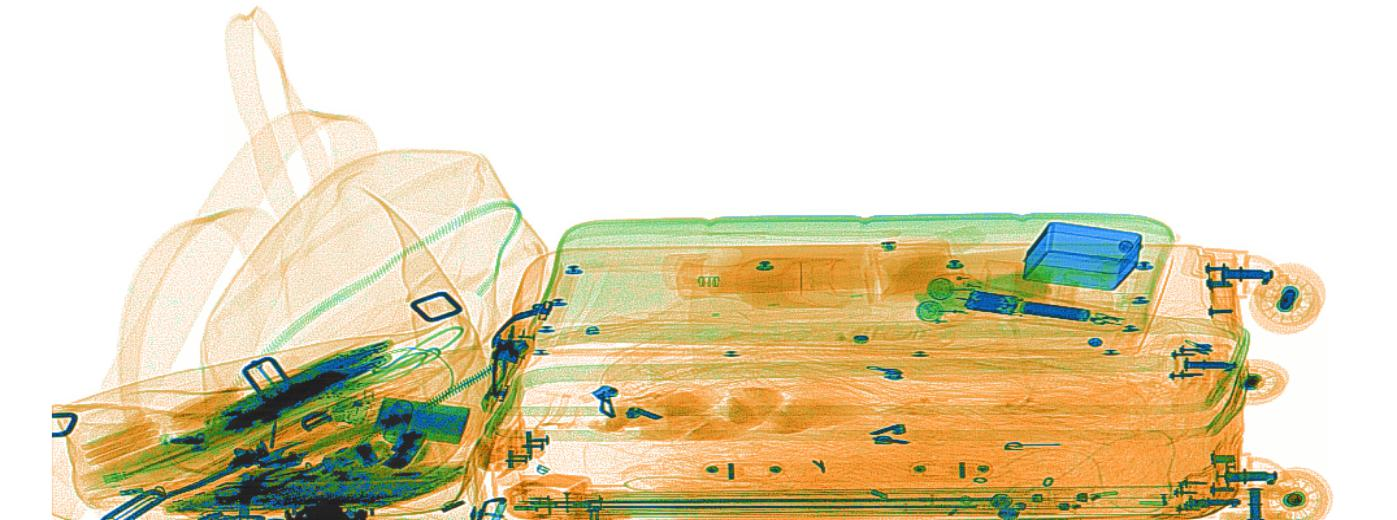battery: (1021, 301, 1091, 322)
plasticBottleWithaNozzle: (677, 257, 864, 311)
